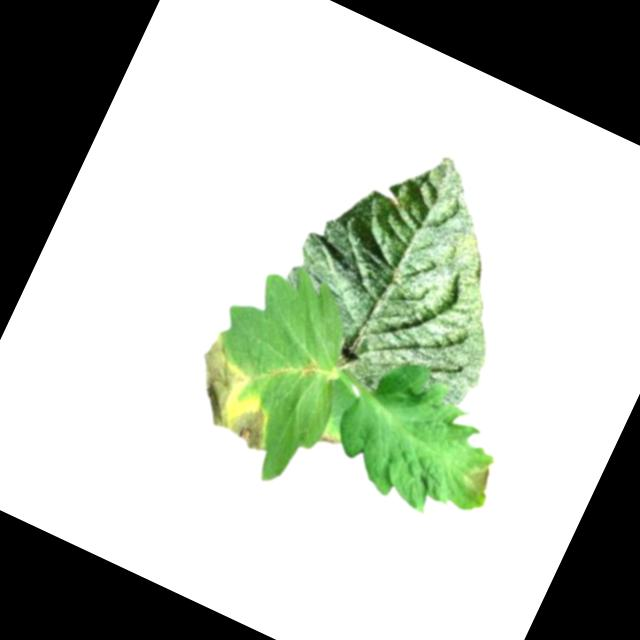Late_blight: (174, 328, 302, 455), (457, 452, 500, 501), (316, 430, 340, 448)
